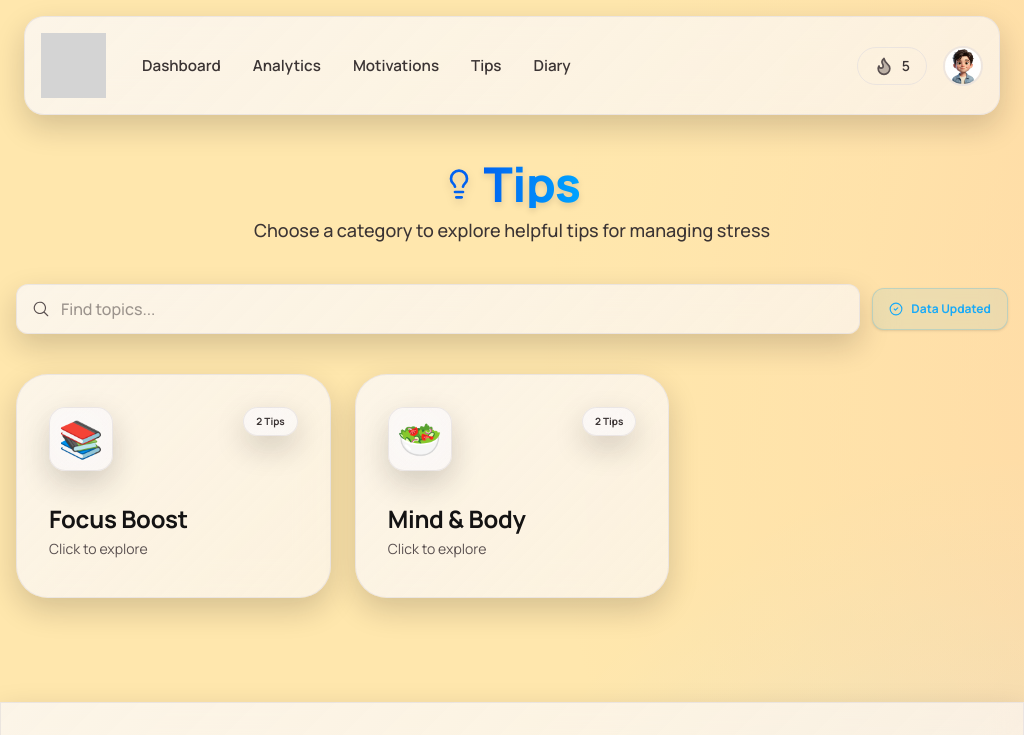
Test: Core feature pages › renders the tips overview and details
Expected: the heading "Tips" is shown, 484,160 -> 581,208
Expected: the field with placeholder "Find topics..." is shown, 16,284 -> 860,334
Click the heading "Focus Boost" at (118, 518), box 49,502 -> 188,535
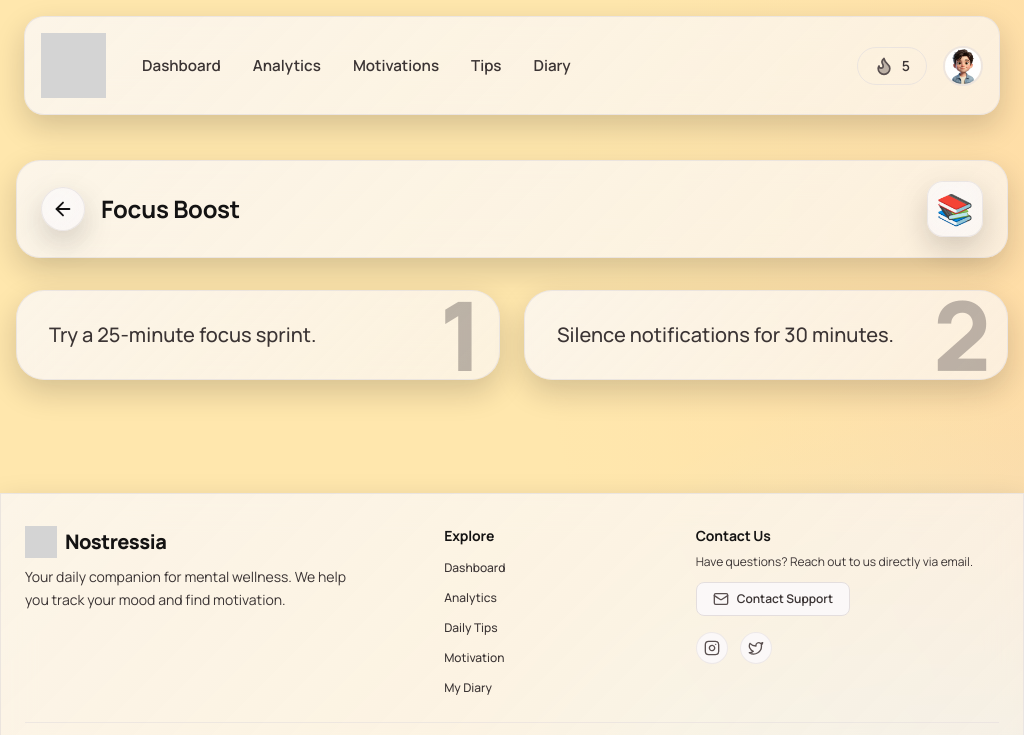
Expected: the heading "Focus Boost" is shown, 101,193 -> 240,225
Now the text "Try a 25-minute focus sprint." is shown, box 49,319 -> 356,351
Now the text "Silence notifications for 30 minutes." is shown, box 557,319 -> 934,351
